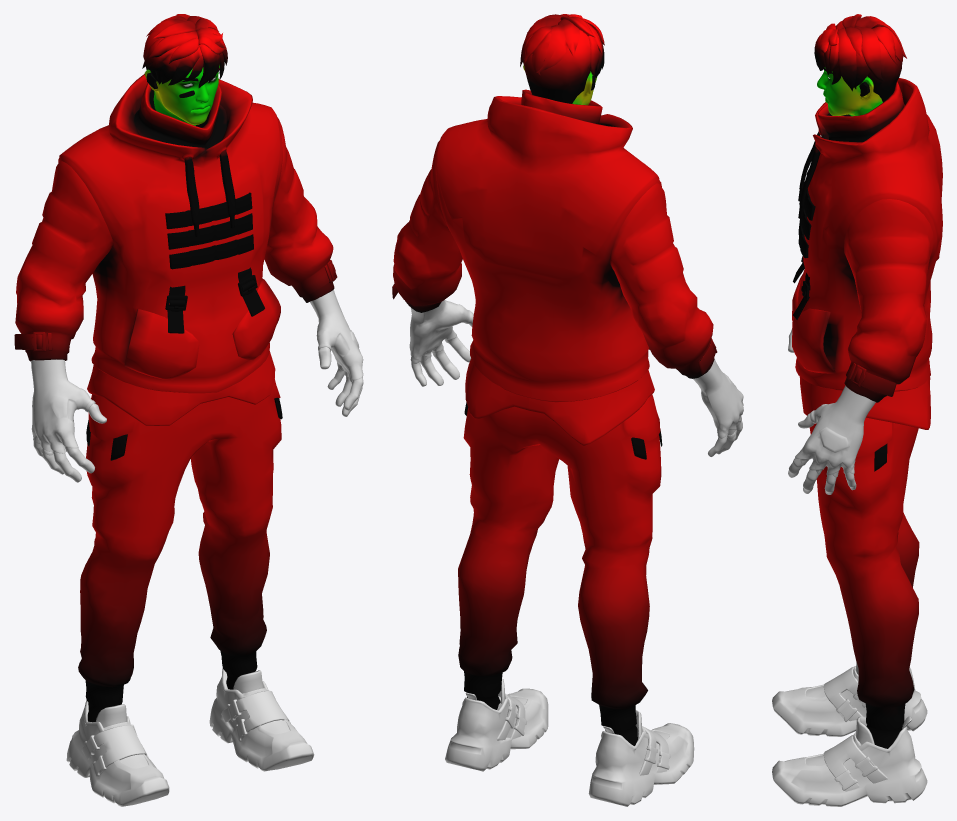
File: ISO_RIG_V23.fbx
3 views of the same model, side by side, from view 1: azimuth 30°, elevation 25°; view 2: azimuth 150°, elevation 25°; view 3: azimuth 270°, elevation 25° (orthographic).
Visible parts, largest first — view 1: Iso_Hood, Iso_Pants, Iso_Shoes, Iso_Gloves, Iso_Hair, Iso_Fingers, Iso_Head; view 2: Iso_Hood, Iso_Pants, Iso_Shoes, Iso_Hair, Iso_Gloves, Iso_Fingers; view 3: Iso_Hood, Iso_Pants, Iso_Shoes, Iso_Hair, Iso_Gloves, Iso_Head, Iso_Fingers.
Part boxes in pixels (x1,y1,x2,y2): Iso_Hood: (14, 74, 337, 425); Iso_Pants: (78, 379, 282, 722); Iso_Shoes: (66, 668, 314, 806); Iso_Gloves: (31, 289, 363, 455); Iso_Hair: (142, 14, 227, 87); Iso_Fingers: (33, 347, 363, 482); Iso_Head: (144, 65, 220, 125); Iso_Hood: (392, 89, 717, 445); Iso_Pants: (458, 394, 662, 745); Iso_Shoes: (445, 678, 694, 806); Iso_Hair: (520, 14, 604, 103); Iso_Gloves: (409, 300, 743, 438); Iso_Fingers: (411, 313, 743, 456); Iso_Hood: (792, 78, 942, 429); Iso_Pants: (809, 417, 919, 748); Iso_Shoes: (772, 662, 927, 806); Iso_Hair: (814, 14, 906, 102); Iso_Gloves: (795, 385, 875, 477); Iso_Head: (817, 67, 882, 116); Iso_Fingers: (788, 328, 856, 494).
Size of the model in its own units: 94.77 by 210 by 43.85.
